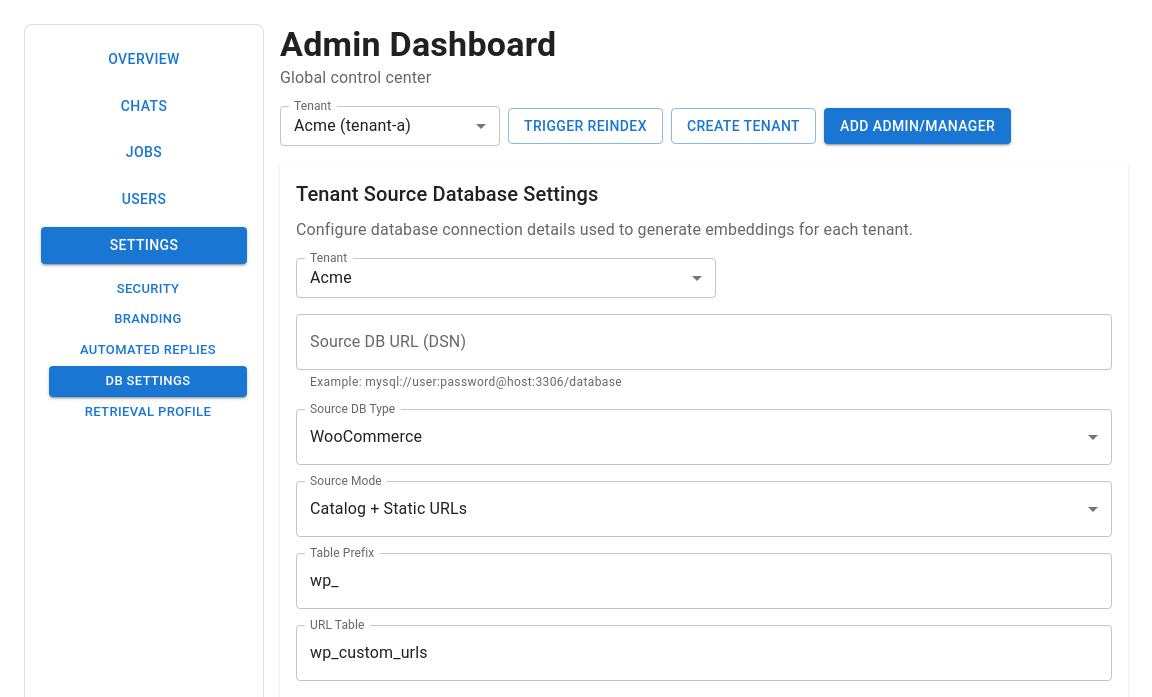
Scenario: AdminDashboard source config › updates source mode when a menu option is selected
Press the mouse on the dropdown named "Source Mode" at [389, 509], box x1=310 y1=499 x2=467 y2=518
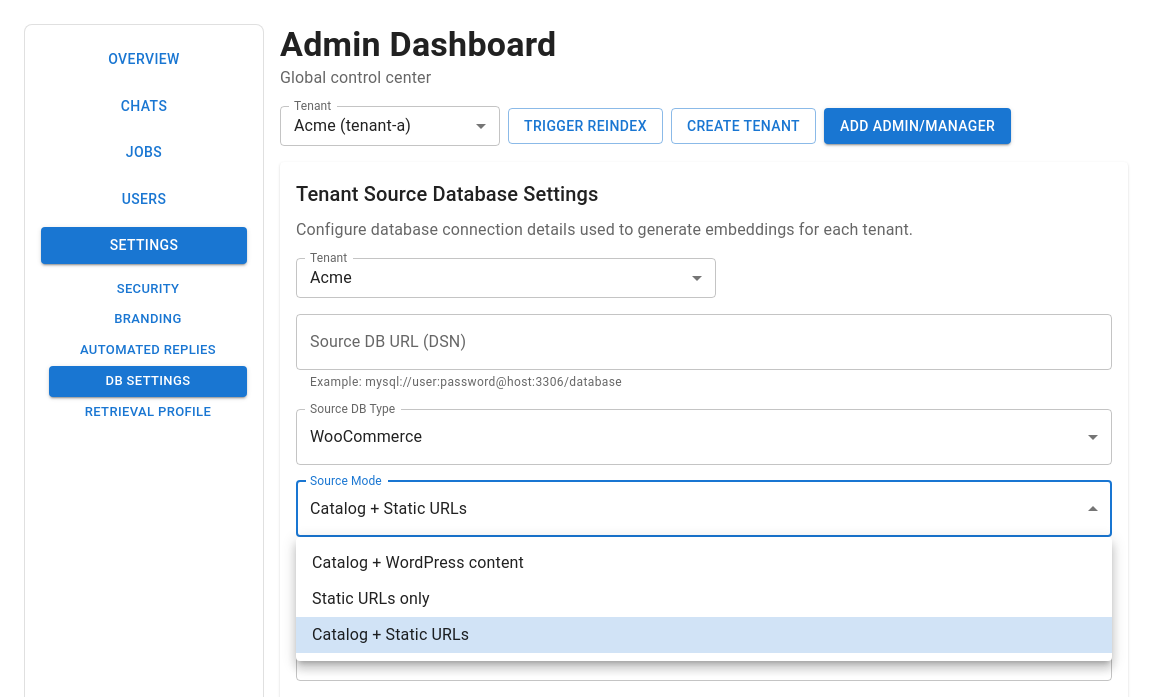
Click the option "Catalog + WordPress content" at [418, 562], box x1=312 y1=553 x2=524 y2=572
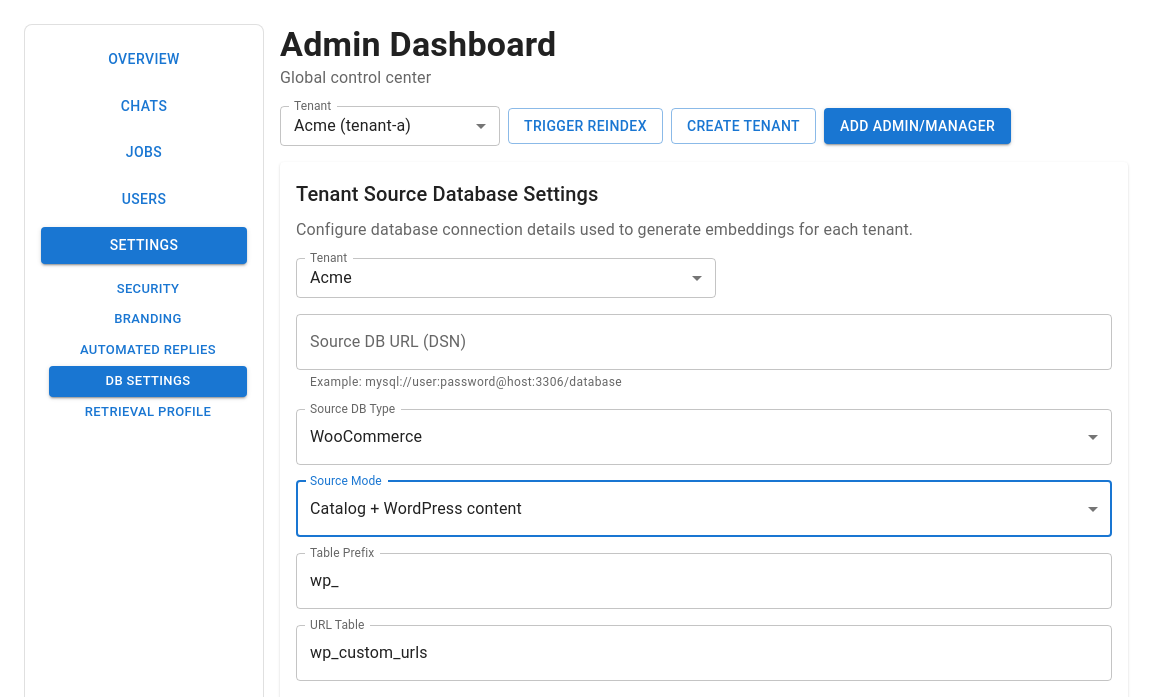
Check: the dropdown named "Source Mode" reads "Catalog + WordPress content", box x1=310 y1=499 x2=522 y2=518
